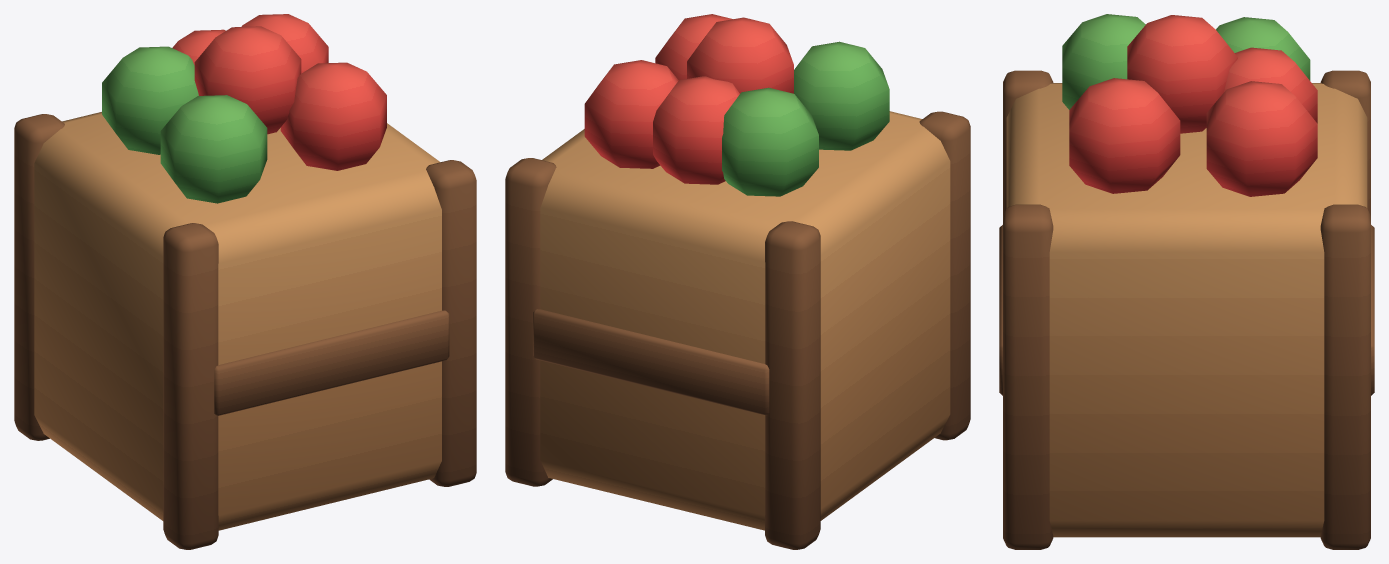
File: crateS.glb
3 views of the same model, side by side, from view 1: azimuth 30°, elevation 25°; view 2: azimuth 150°, elevation 25°; view 3: azimuth 270°, elevation 25° (orthographic). The views are drawn at different scales.
Parts seen in each view (by area): view 1: crateS; view 2: crateS; view 3: crateS.
Part boxes in pixels (left/top/right/bottom): crateS: left=14, top=14, right=476, bottom=549; crateS: left=505, top=14, right=970, bottom=549; crateS: left=999, top=14, right=1374, bottom=549.
Size of the model in its own units: 1.02 by 1.4 by 1.04.
1 material, 1 textured.
